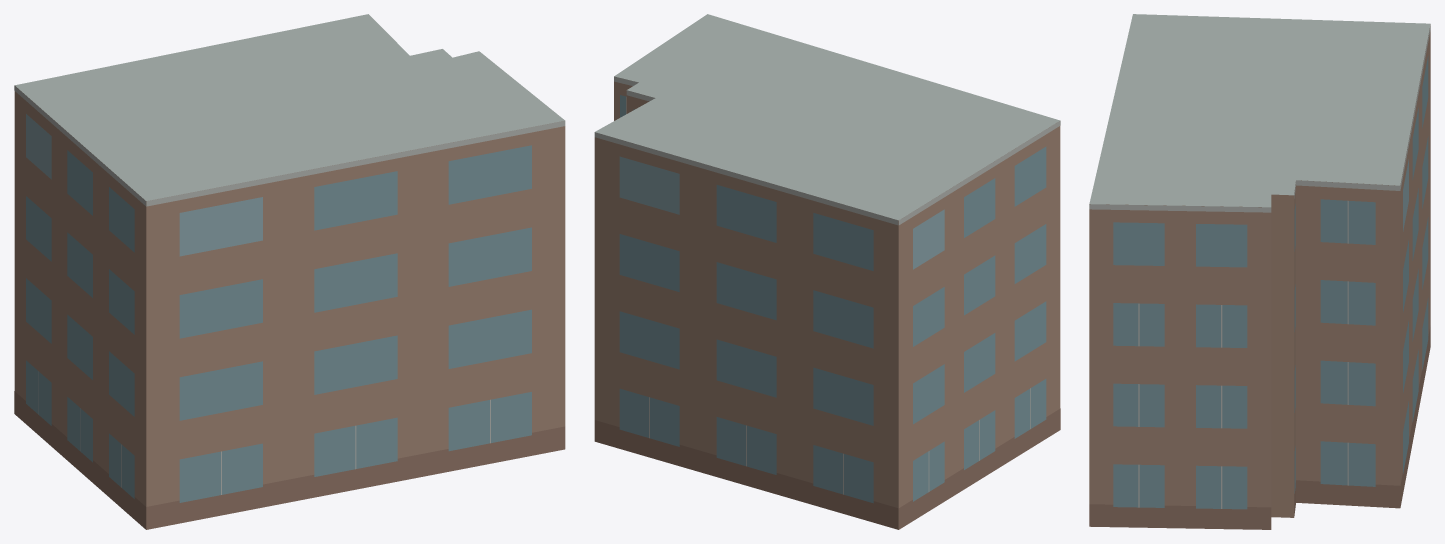
The model's file is survey-upis-32501408.glb.
The picture shows the model from 3 angles, left to right: view 1: azimuth 30°, elevation 25°; view 2: azimuth 150°, elevation 25°; view 3: azimuth 270°, elevation 25°; orthographic projection. The views are drawn at different scales.
Parts seen in each view (by area): view 1: survey-upis-32501408.tmp; view 2: survey-upis-32501408.tmp; view 3: survey-upis-32501408.tmp.
Part boxes in pixels (bbox=[...]): survey-upis-32501408.tmp: bbox=[14, 14, 565, 529]; survey-upis-32501408.tmp: bbox=[594, 14, 1060, 529]; survey-upis-32501408.tmp: bbox=[1089, 14, 1430, 529].
Bounding box in the file's own units: 18.96 × 14.75 × 14.15.
